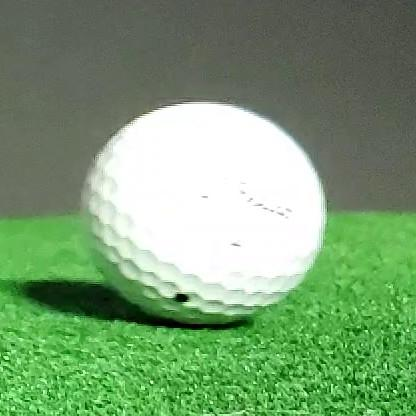golfball: (80, 102, 327, 324)
